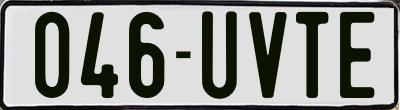0: (33, 10, 72, 100)
4: (79, 10, 119, 97)
6: (129, 12, 168, 104)
E: (340, 11, 379, 98)
T: (296, 12, 332, 98)
U: (199, 10, 239, 98)
V: (246, 10, 285, 97)
